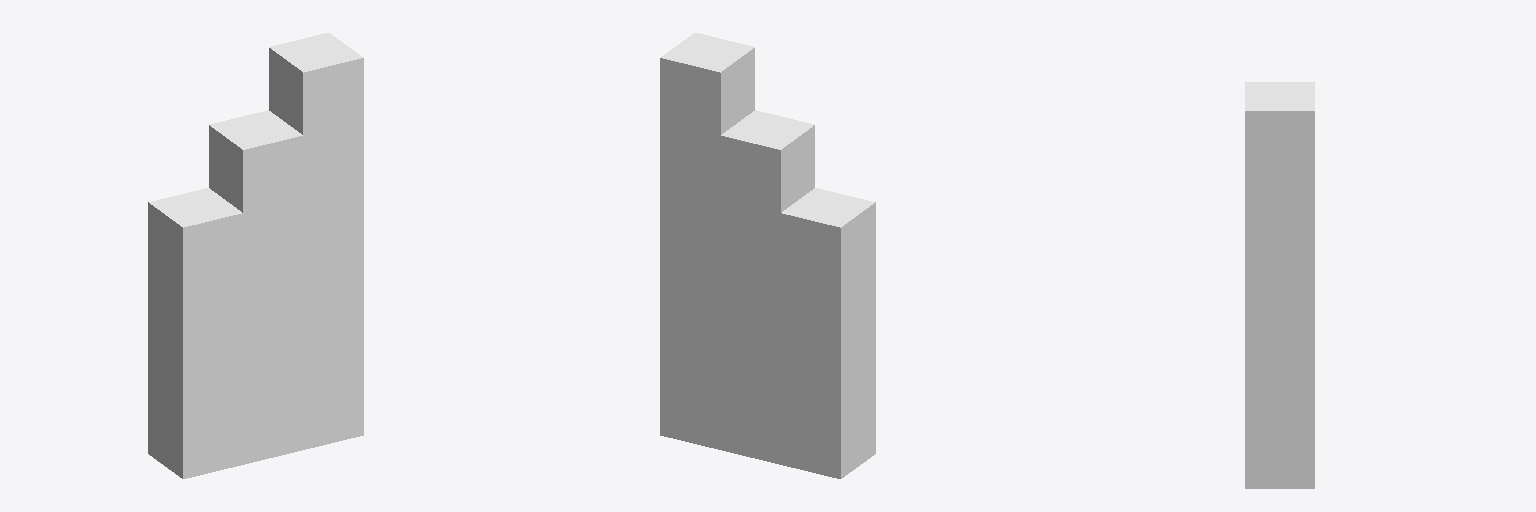
The model's file is YellowHouseParts-22.obj.
The picture shows the model from 3 angles: view 1: azimuth 30°, elevation 25°; view 2: azimuth 150°, elevation 25°; view 3: azimuth 270°, elevation 25°; orthographic projection.
Visible parts, largest first — view 1: object 1; view 2: object 1; view 3: object 1.
Part boxes in pixels (left/top/right/bottom): object 1: left=148, top=33, right=363, bottom=478; object 1: left=660, top=33, right=875, bottom=478; object 1: left=1245, top=82, right=1314, bottom=488.
Bounding box in the file's own units: 0.3 × 0.6 × 0.1.